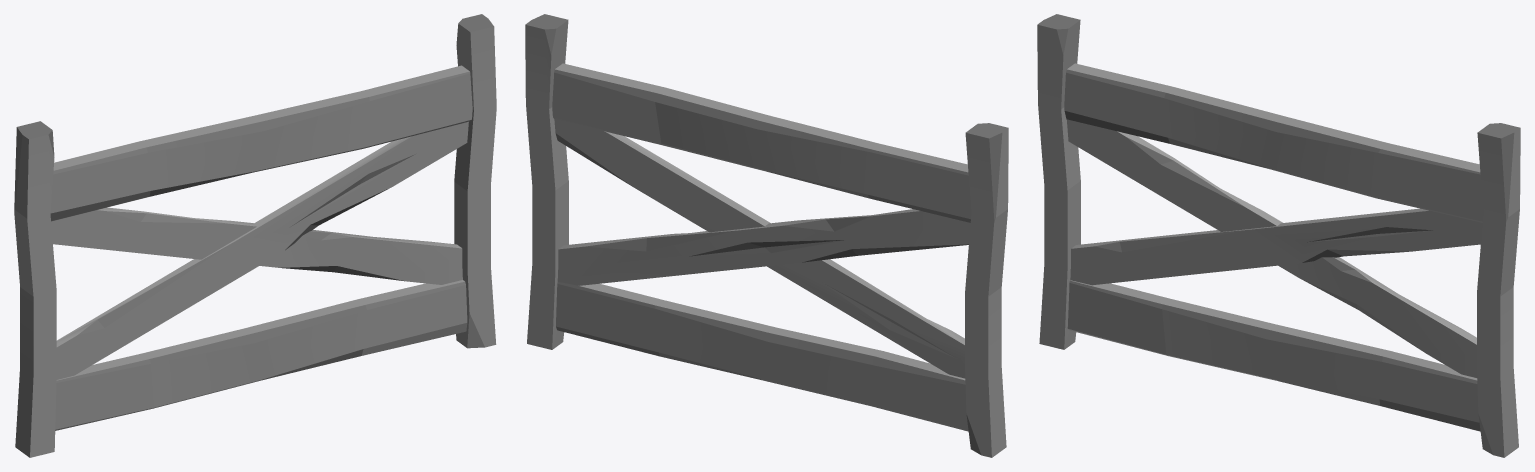
File: Fence_1_1.fbx
3 renders of one model, left to right at view 1: azimuth 30°, elevation 25°; view 2: azimuth 150°, elevation 25°; view 3: azimuth 330°, elevation 25°, orthographic.
Parts seen in each view (by area): view 1: Fence_1_1; view 2: Fence_1_1; view 3: Fence_1_1.
Boxes of the visible parts, bbox=[...] form: Fence_1_1: bbox=[14, 14, 496, 457]; Fence_1_1: bbox=[525, 14, 1008, 457]; Fence_1_1: bbox=[1037, 14, 1520, 457].
Size of the model in its own units: 62 by 40.31 by 3.77.
